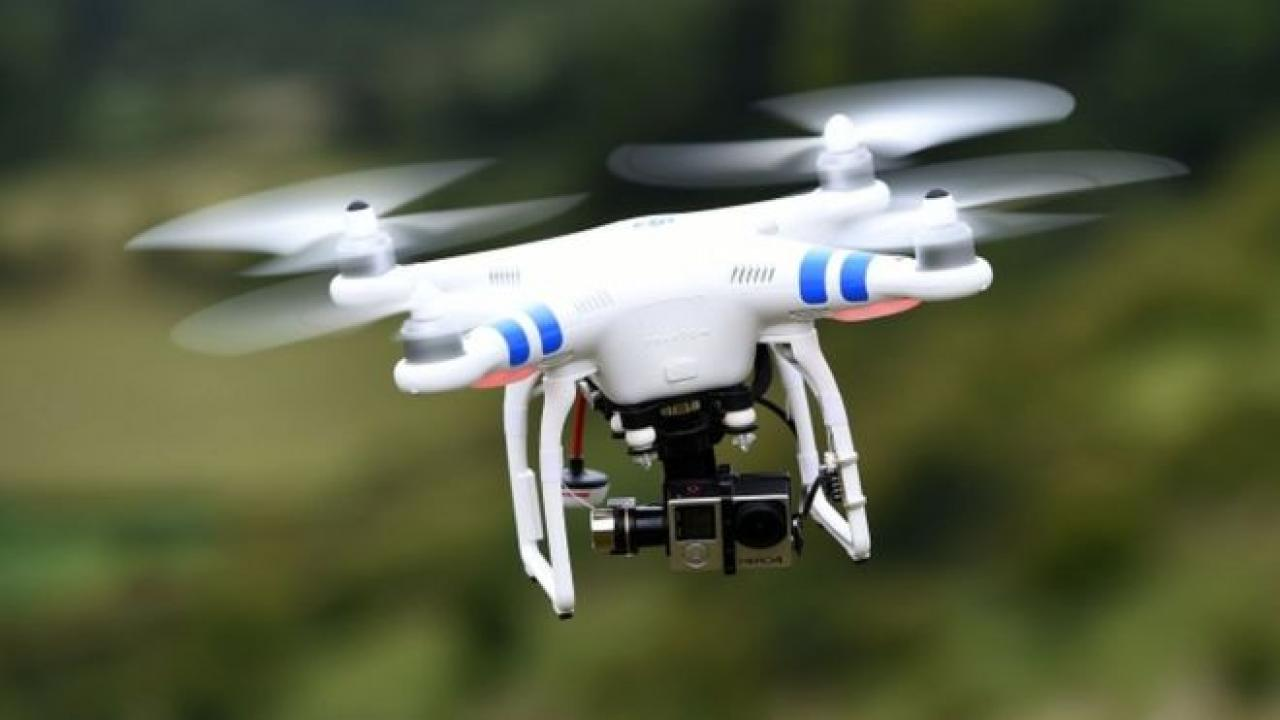Drone: (115, 71, 1200, 628)
